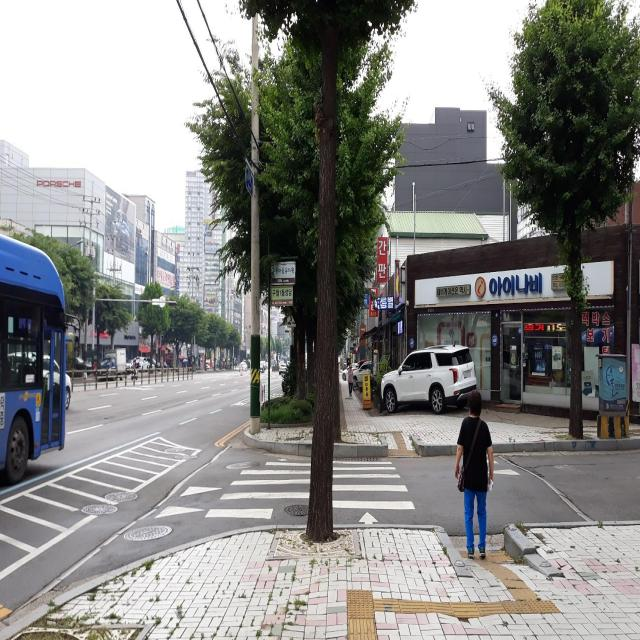횡단보도: (204, 456, 416, 526)
